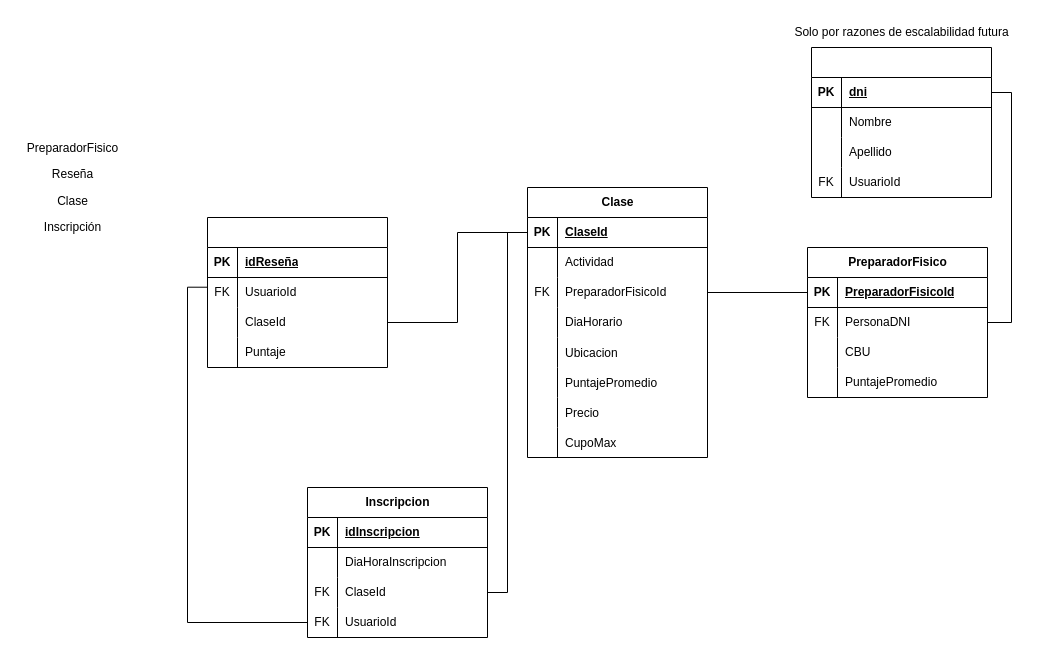
Some shapes in this 1038 by 655 pixel diagram are drawn without their labels. The box of each missing label's shape, as (x1, y1, x2, y2) in pixels:
Persona: (810, 46, 992, 198)
Review: (206, 216, 388, 368)
